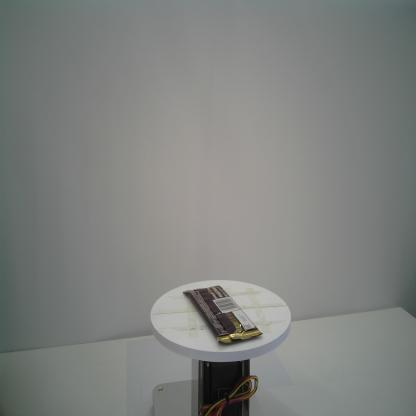Chocolate: (182, 284, 263, 347)
